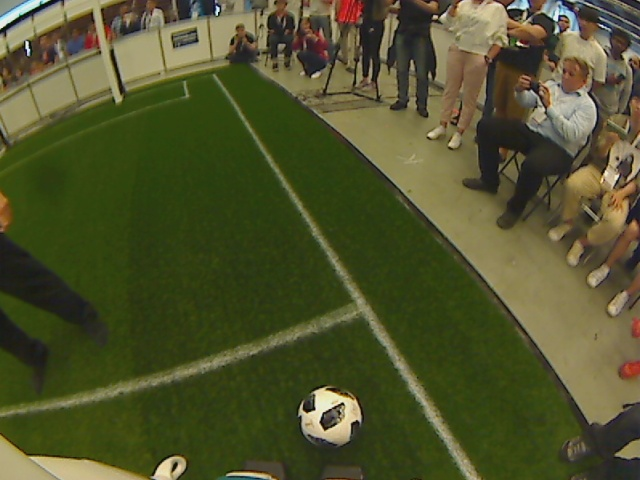ball: (295, 384, 363, 450)
